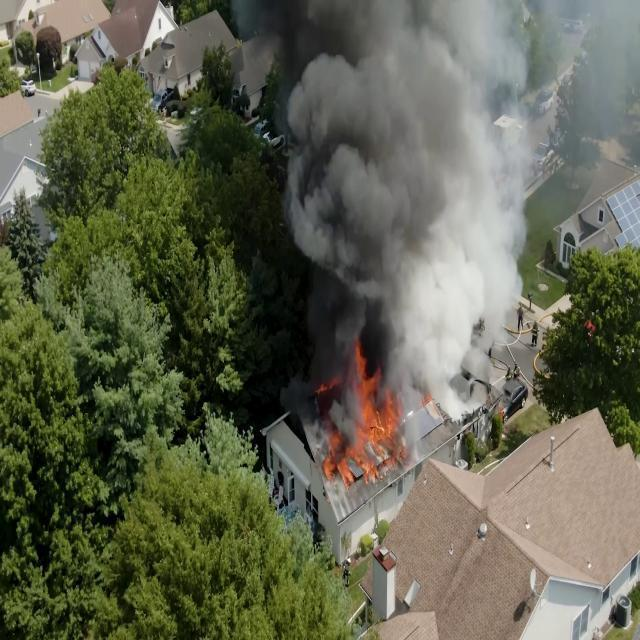Fire: (339, 359, 399, 459)
Smoke: (391, 14, 512, 373), (301, 0, 417, 300)
